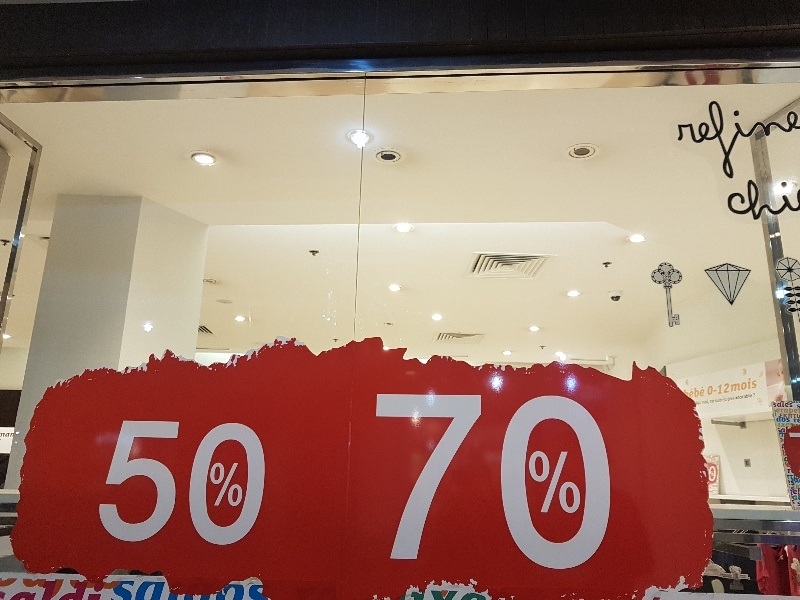text: (385, 394, 400, 572), (401, 394, 416, 572), (417, 394, 432, 572), (433, 394, 448, 572), (449, 394, 464, 572), (465, 394, 480, 572), (481, 394, 496, 572), (497, 394, 512, 572), (513, 394, 528, 572), (529, 394, 544, 572), (545, 394, 560, 572), (561, 394, 576, 572), (577, 394, 592, 572), (593, 394, 608, 572), (129, 419, 144, 549), (145, 419, 160, 549), (161, 419, 176, 549), (177, 419, 192, 549), (193, 419, 208, 549), (209, 419, 224, 549), (225, 419, 240, 549), (241, 419, 256, 549), (257, 419, 270, 549), (376, 394, 384, 572), (673, 96, 688, 184), (689, 96, 704, 184), (705, 96, 720, 184), (721, 96, 736, 184), (737, 96, 752, 184), (753, 96, 768, 184), (769, 96, 784, 184), (785, 96, 800, 184), (609, 394, 616, 572), (529, 450, 544, 517), (545, 450, 560, 517), (561, 450, 576, 517), (209, 456, 224, 516), (225, 456, 240, 516), (122, 419, 128, 549), (737, 177, 752, 225), (753, 177, 768, 225), (769, 177, 784, 225), (785, 177, 800, 225), (725, 177, 736, 225), (241, 456, 248, 516), (577, 450, 583, 517), (721, 377, 736, 396), (737, 377, 752, 396), (17, 581, 32, 600), (33, 581, 48, 600), (49, 581, 64, 600), (65, 581, 80, 600), (81, 581, 96, 600), (97, 581, 112, 600), (113, 581, 128, 600), (129, 581, 144, 600), (145, 581, 160, 600), (161, 581, 176, 600), (177, 581, 192, 600), (193, 581, 208, 600), (209, 581, 224, 600), (225, 581, 240, 600), (241, 581, 256, 600), (669, 96, 672, 184), (707, 377, 720, 396), (257, 581, 270, 600), (708, 466, 720, 483), (689, 386, 704, 399), (8, 581, 16, 600), (401, 591, 416, 600), (417, 591, 432, 600), (433, 591, 448, 600), (449, 591, 464, 600), (465, 591, 480, 600), (737, 393, 752, 401), (753, 377, 758, 396), (785, 408, 799, 414), (779, 433, 784, 449), (787, 474, 800, 480), (785, 414, 800, 419), (753, 393, 768, 398), (1, 433, 16, 438), (788, 480, 800, 486), (481, 591, 489, 600), (786, 463, 800, 468), (787, 469, 800, 474), (785, 422, 795, 428), (710, 471, 720, 477), (773, 403, 784, 408), (684, 386, 688, 399), (777, 416, 784, 423), (776, 408, 784, 414), (792, 479, 800, 485), (791, 487, 800, 492), (721, 397, 727, 404), (785, 416, 791, 423), (777, 427, 784, 433), (793, 495, 800, 501), (728, 397, 736, 402), (710, 400, 720, 404), (785, 403, 793, 408), (792, 500, 800, 505), (778, 422, 784, 428), (794, 418, 800, 424), (715, 397, 720, 404), (793, 490, 800, 495), (785, 456, 790, 463), (785, 433, 787, 449), (705, 399, 710, 405), (779, 414, 784, 419), (785, 427, 789, 433), (785, 450, 788, 457), (782, 450, 784, 457), (705, 386, 706, 399), (702, 399, 704, 405), (798, 502, 800, 507), (798, 404, 800, 409), (399, 591, 400, 600), (735, 393, 736, 401)
